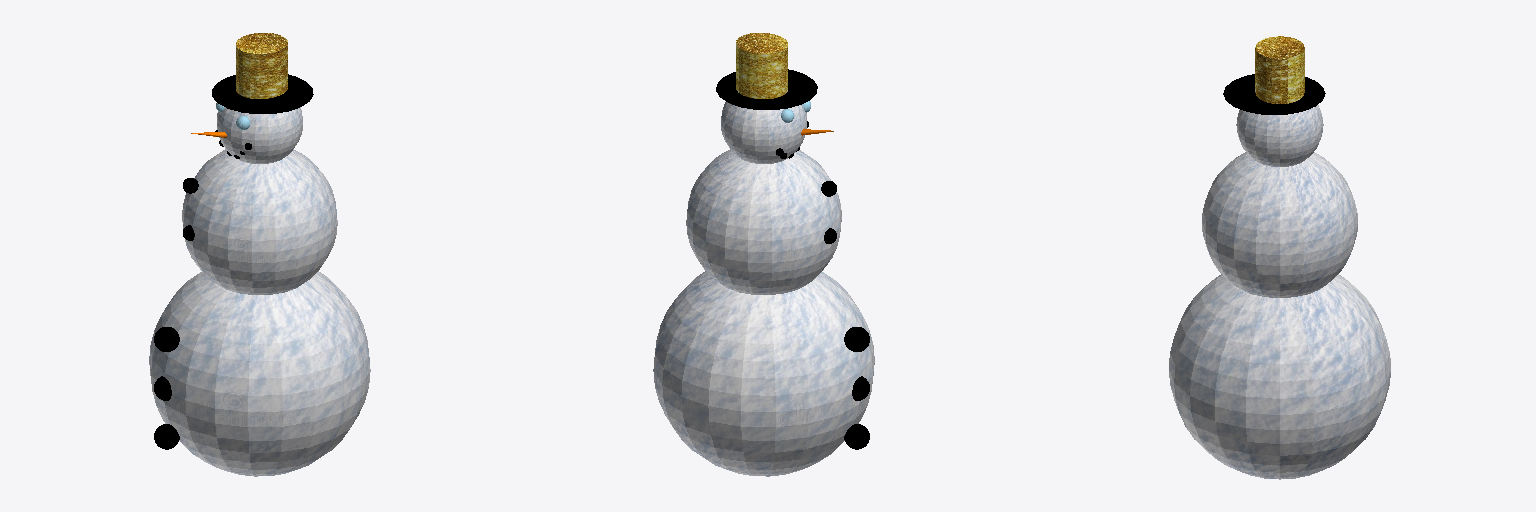
3 renders of one model, left to right at view 1: azimuth 30°, elevation 25°; view 2: azimuth 150°, elevation 25°; view 3: azimuth 270°, elevation 25°, orthographic.
Bounding box in the file's own units: 4.32 × 8.68 × 4.15.
11 materials, 4 textured.